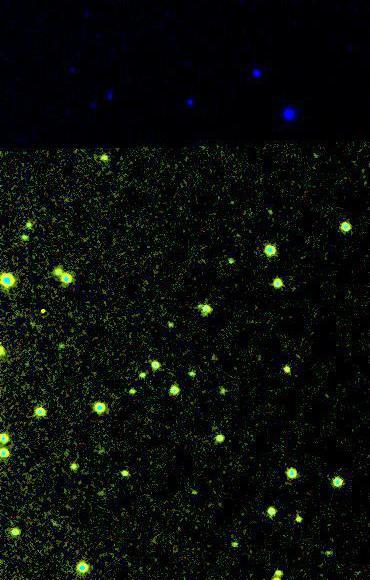star: (28, 297, 58, 327)
